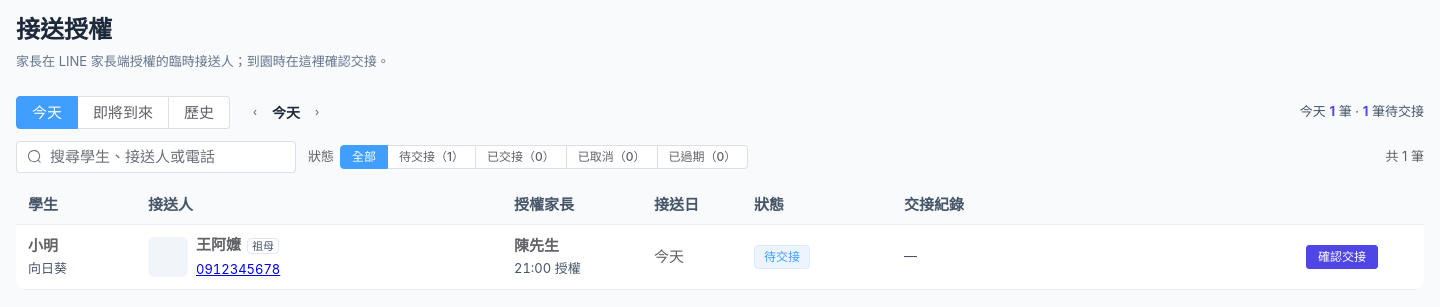
Test: PickupAuthorizationsView (admin) › 第二批：三端語彙、日期箭頭、人工核對說明 chip、歷史區間上限 › 後一天切到明天；切到別的範圍再切回「今天」會重設為今天
Click the button with test id "day-next".
click(317, 112)  # box [304,100,330,124]
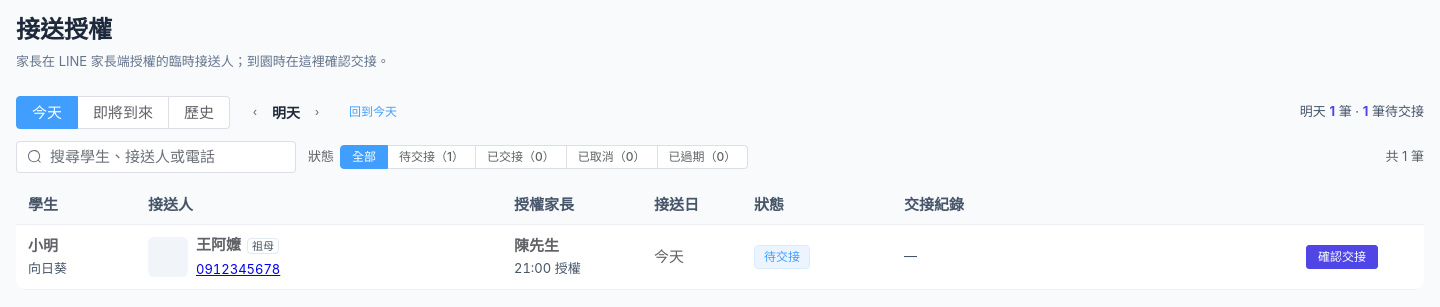
Now the text with test id "day-label" reads "明天", box [272,104,300,120]
Click the text "即將到來".
click(124, 112)  # box [78,96,169,128]
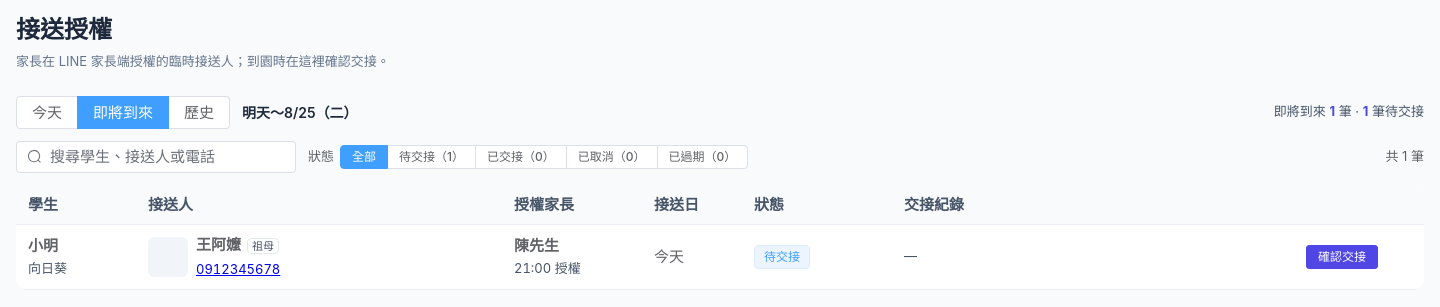
Click the text "今天" in the row of "歷史".
click(47, 112)  # box [16,96,78,128]
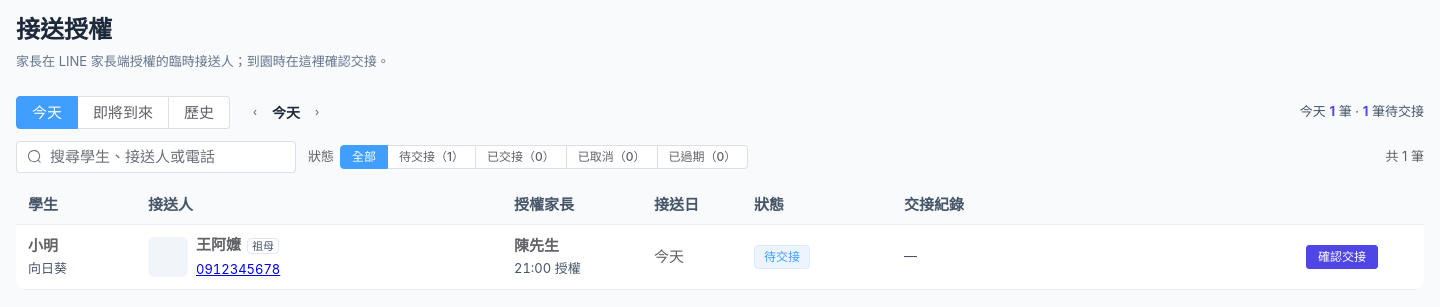
Now the text with test id "day-label" reads "今天", box [272,104,300,120]
